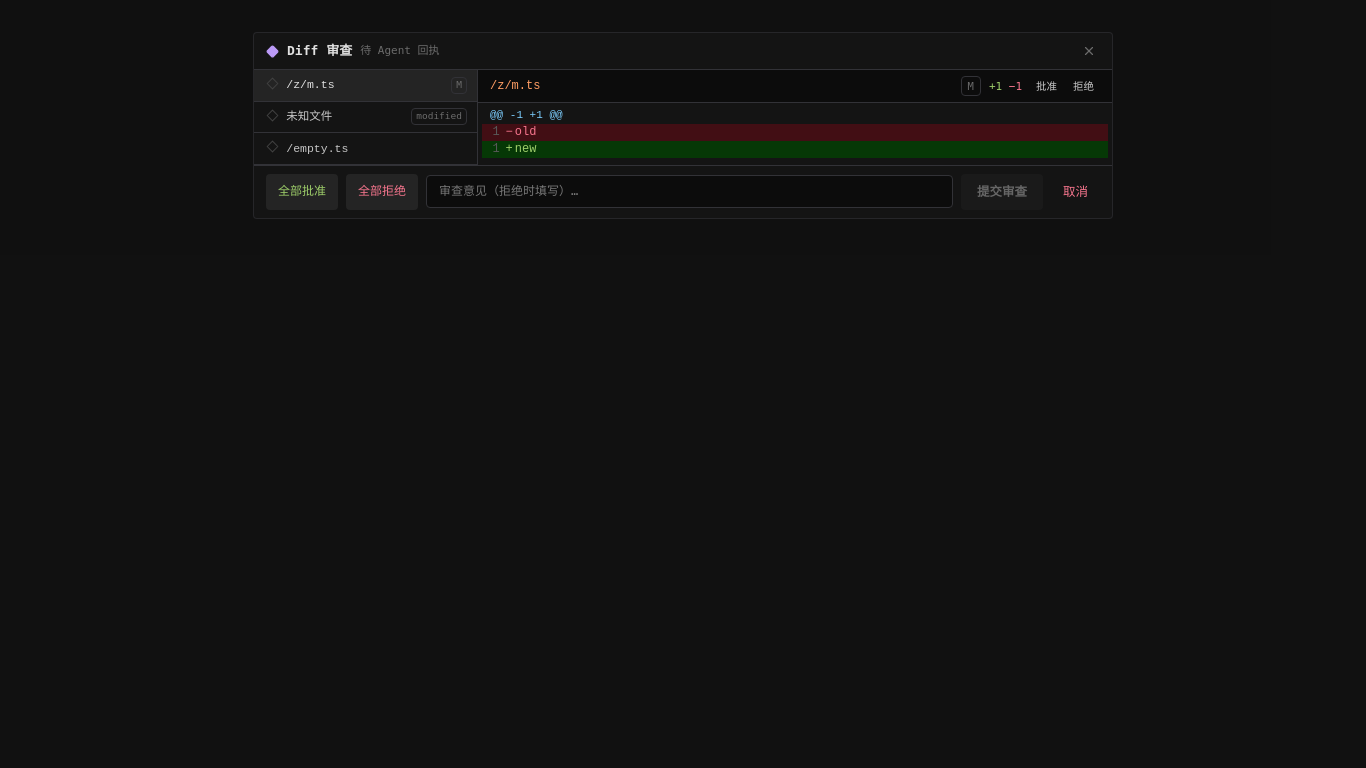
Test case: DiffReviewModal › snake_case / 无路径字段防御解析（未知文件）+ 空行提示
Expected: the text "/z/m.ts" is shown 2 times, [286,78,335,91]; [490,79,540,93]
Expected: the text "M" is shown 2 times, [451,77,467,94]; [960,76,981,96]
# 无 diff 内容的文件 → 提示
Click the button "/empty.ts" at (366, 149), box [254,133,477,165]
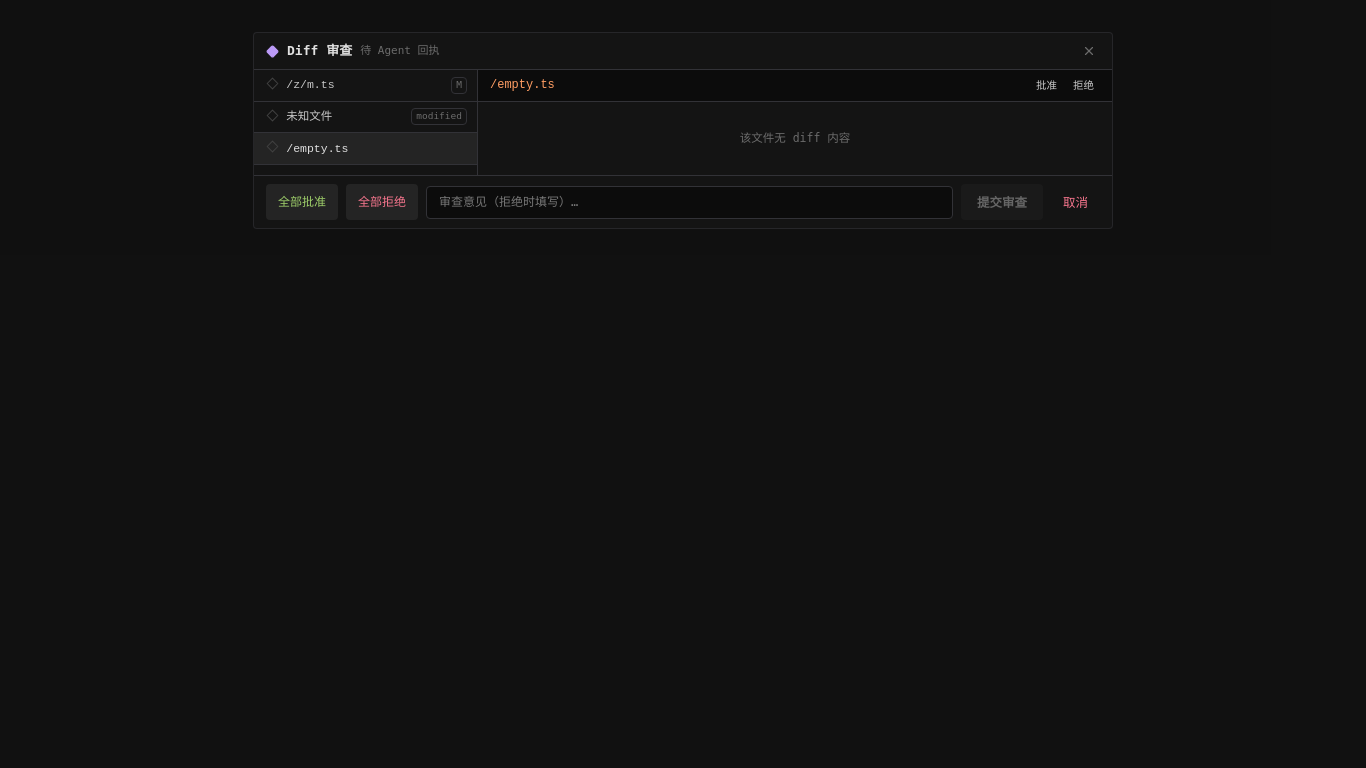
Expected: the text "该文件无 diff 内容" is shown, [740,131,850,145]
